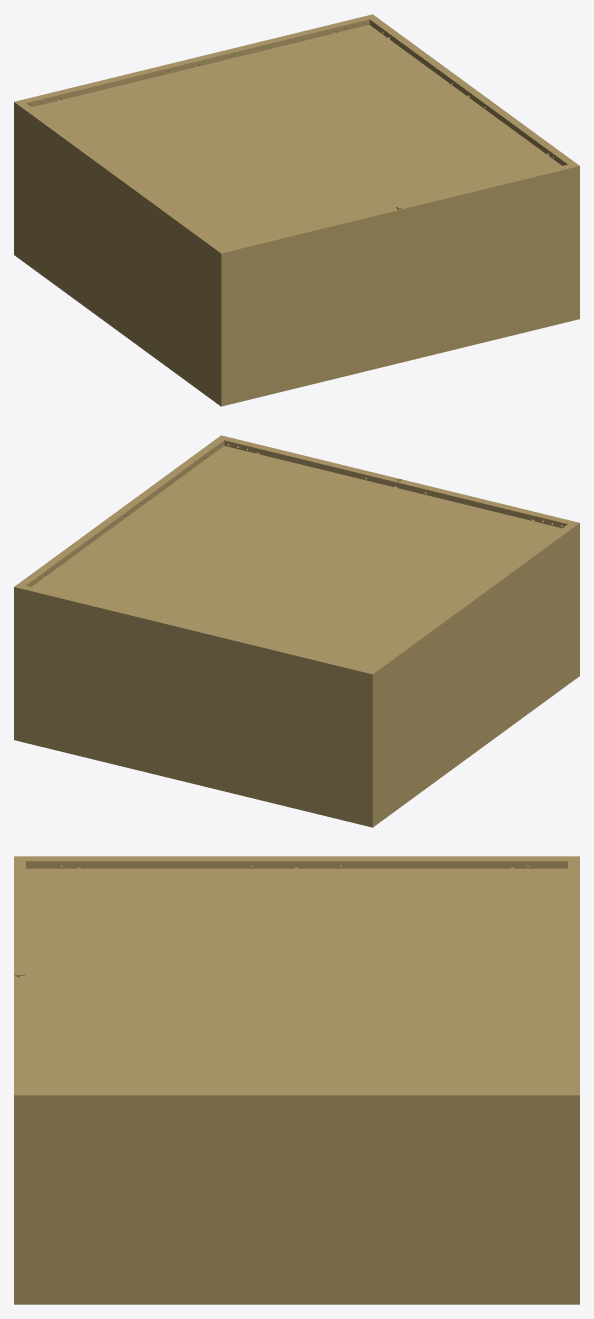
File: Etapes_7.glb
3 renders of one model, top to bottom at view 1: azimuth 30°, elevation 25°; view 2: azimuth 150°, elevation 25°; view 3: azimuth 270°, elevation 25°, orthographic. The views are drawn at different scales.
Visible parts, largest first — view 1: Cube.001; view 2: Cube.001; view 3: Cube.001.
Boxes of the visible parts, x1,y1,x2,y2 form: Cube.001: (14, 14, 579, 406); Cube.001: (14, 435, 579, 827); Cube.001: (14, 856, 579, 1304).
Size of the model in its own units: 0.76 by 0.3192 by 0.76.
